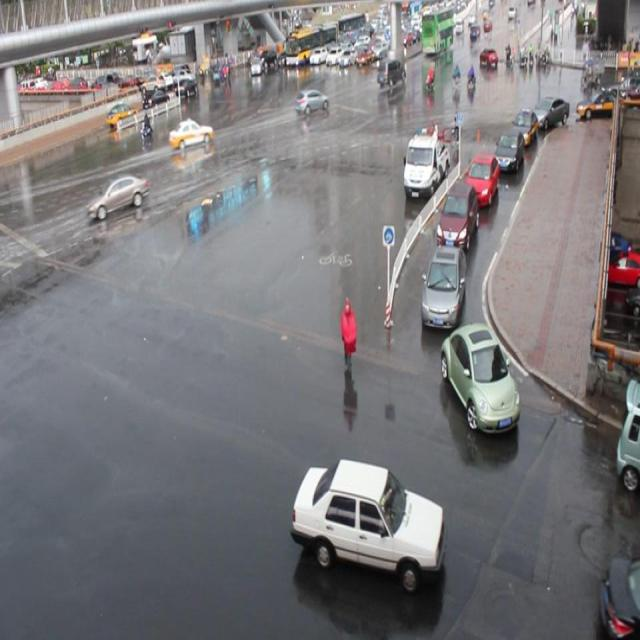bus: (401, 128, 448, 204)
car: (291, 455, 442, 587), (441, 322, 518, 429), (597, 550, 640, 640), (420, 244, 466, 328), (435, 180, 477, 249), (614, 380, 640, 490), (87, 174, 148, 217), (463, 153, 498, 205), (528, 94, 568, 130), (492, 129, 524, 171), (169, 119, 212, 146), (510, 110, 537, 146), (295, 88, 327, 116)
